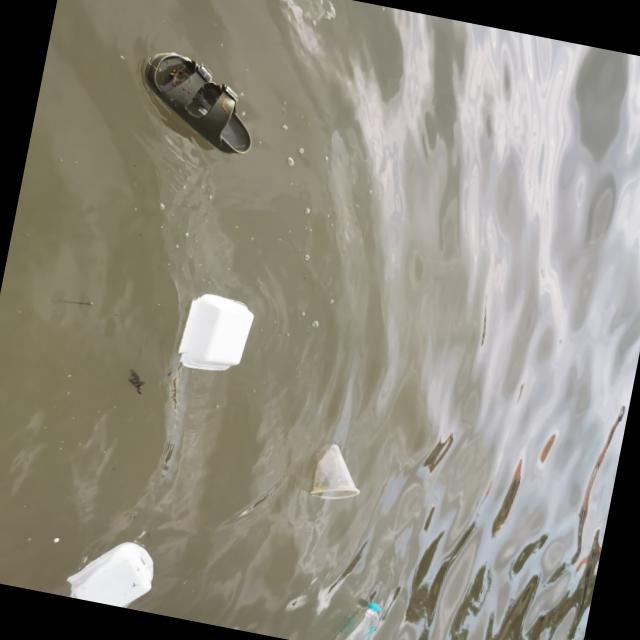foam: (59, 526, 163, 614), (167, 289, 263, 384)
plastic bottle: (319, 588, 390, 640)
